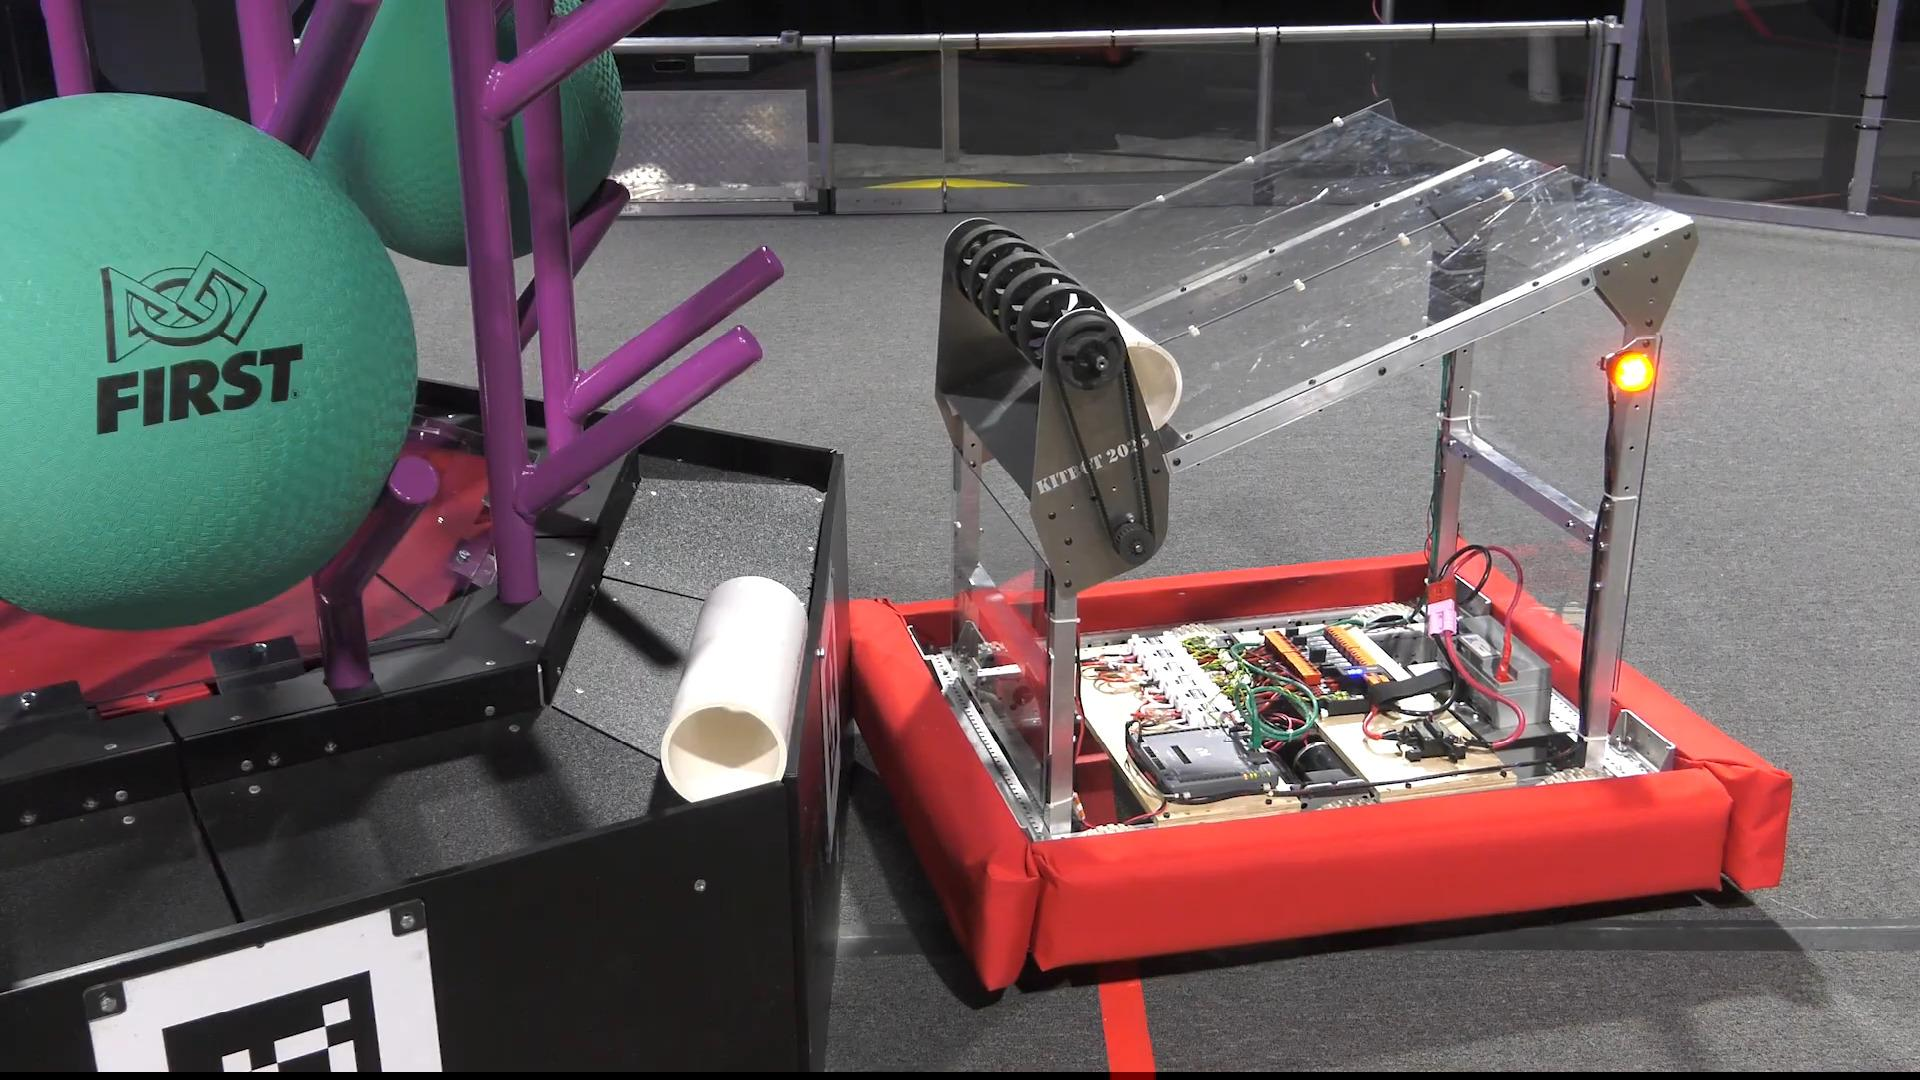coral: (657, 574, 808, 804), (1021, 274, 1183, 434)
